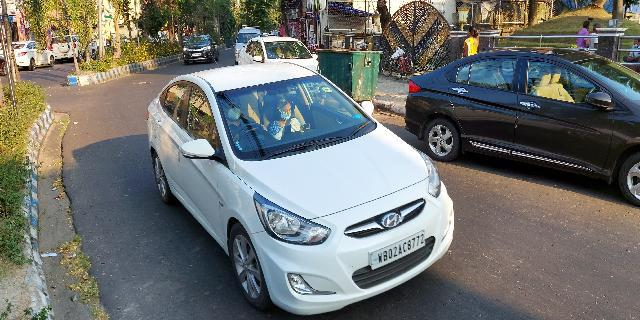Car: (146, 60, 457, 315), (402, 39, 640, 204), (235, 33, 321, 75), (178, 30, 218, 65)
